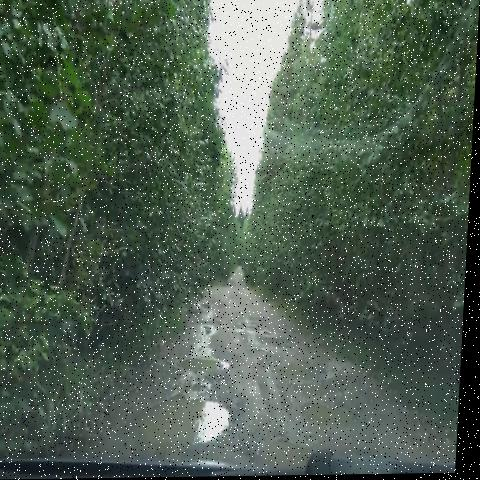pothole: (120, 396, 246, 449), (294, 385, 363, 437), (259, 424, 324, 472), (174, 343, 239, 388), (273, 342, 331, 391), (258, 325, 298, 358), (240, 309, 277, 342), (203, 301, 228, 313)
